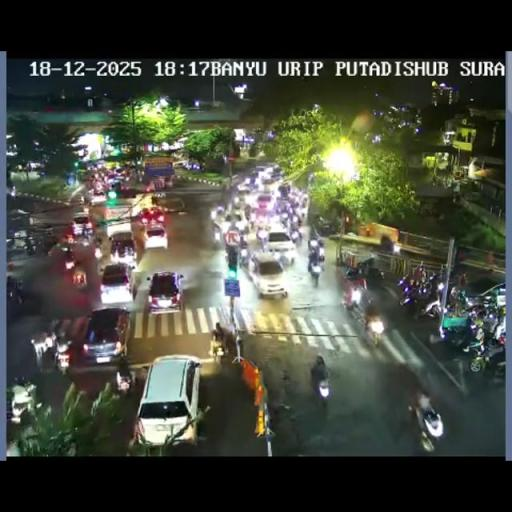Car: (134, 354, 200, 448), (78, 307, 132, 367), (446, 275, 504, 324), (246, 253, 287, 297), (146, 270, 184, 314), (99, 263, 136, 306), (211, 208, 246, 246), (262, 225, 296, 264), (6, 380, 36, 422), (109, 231, 137, 265), (66, 214, 94, 242), (143, 222, 169, 250), (154, 196, 185, 214), (139, 206, 166, 226), (314, 215, 336, 235), (115, 185, 145, 199), (255, 194, 274, 211), (108, 174, 126, 188), (89, 190, 106, 204), (261, 175, 278, 189), (236, 181, 254, 194), (254, 164, 270, 178)
Motorcycle: (407, 390, 442, 448), (399, 270, 442, 316), (466, 330, 505, 376), (29, 326, 57, 373), (339, 274, 365, 308), (266, 389, 291, 423), (345, 256, 375, 278), (312, 371, 330, 406), (365, 316, 385, 346), (6, 276, 24, 306), (116, 366, 134, 393), (209, 332, 225, 362), (55, 342, 71, 372), (71, 264, 88, 291), (278, 206, 296, 230), (41, 232, 60, 253), (308, 255, 322, 282), (490, 316, 505, 341), (226, 242, 239, 269), (62, 247, 76, 272), (134, 364, 150, 385), (453, 270, 468, 288), (237, 242, 249, 263), (288, 226, 302, 244), (234, 332, 244, 357), (297, 198, 308, 220), (279, 365, 292, 383), (24, 239, 37, 255), (214, 203, 225, 217), (94, 234, 104, 249), (243, 204, 251, 222), (317, 246, 325, 260)
